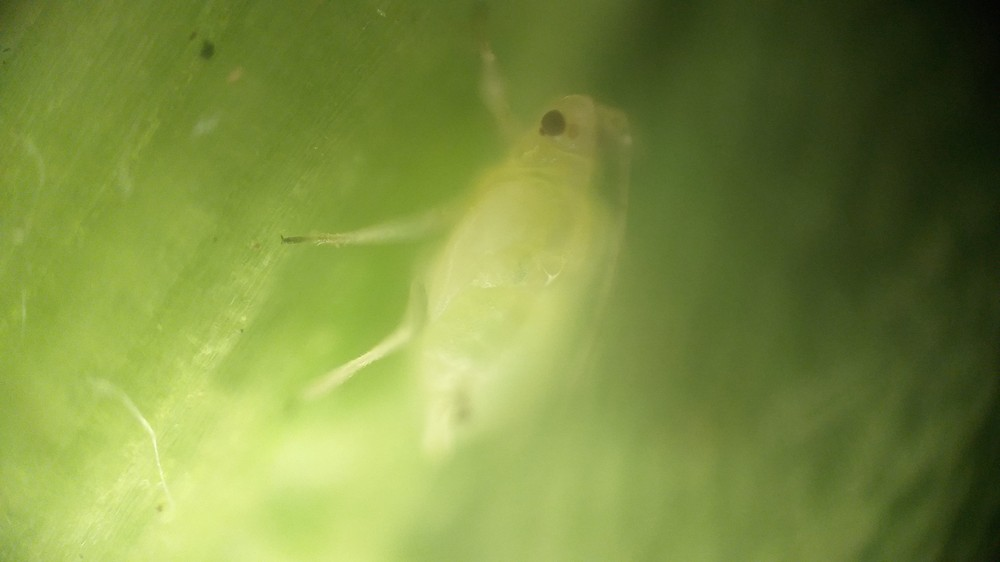Pulgon: (279, 25, 673, 533)
